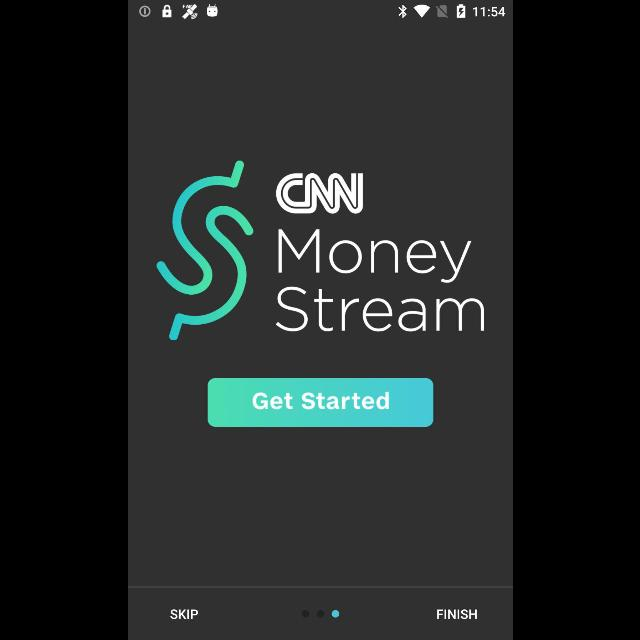image: (156, 161, 252, 341), (275, 173, 363, 214)
pageindicator: (301, 610, 339, 618)
text: (274, 228, 483, 332), (436, 609, 476, 619), (170, 609, 198, 619)
textbutton: (207, 379, 433, 427)
uppertaskbar: (128, 1, 512, 23)
